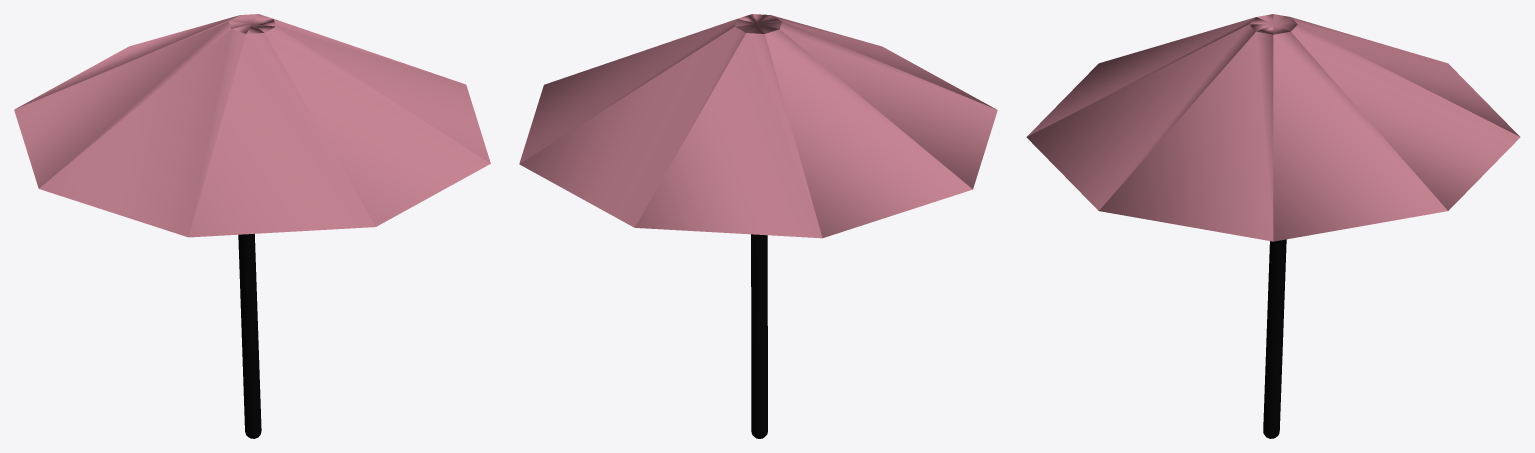
File: umbrella.fbx
The picture shows the model from 3 angles, left to right: view 1: azimuth 30°, elevation 25°; view 2: azimuth 150°, elevation 25°; view 3: azimuth 270°, elevation 25°; orthographic projection.
Parts seen in each view (by area): view 1: umbrella; view 2: umbrella; view 3: umbrella.
Part boxes in pixels (x1,y1,x2,y2): umbrella: (14, 14, 490, 438); umbrella: (519, 14, 997, 438); umbrella: (1026, 14, 1520, 438).
Size of the model in its own units: 24.04 by 22.22 by 24.04.
